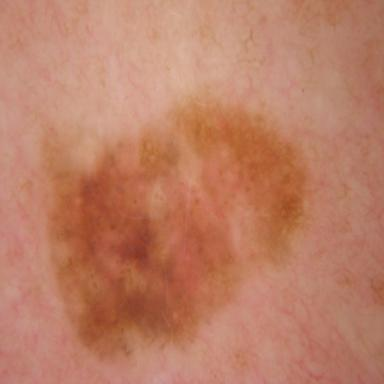nevus: (44, 100, 306, 353)
